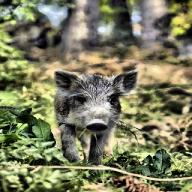boar: (52, 68, 138, 166)
